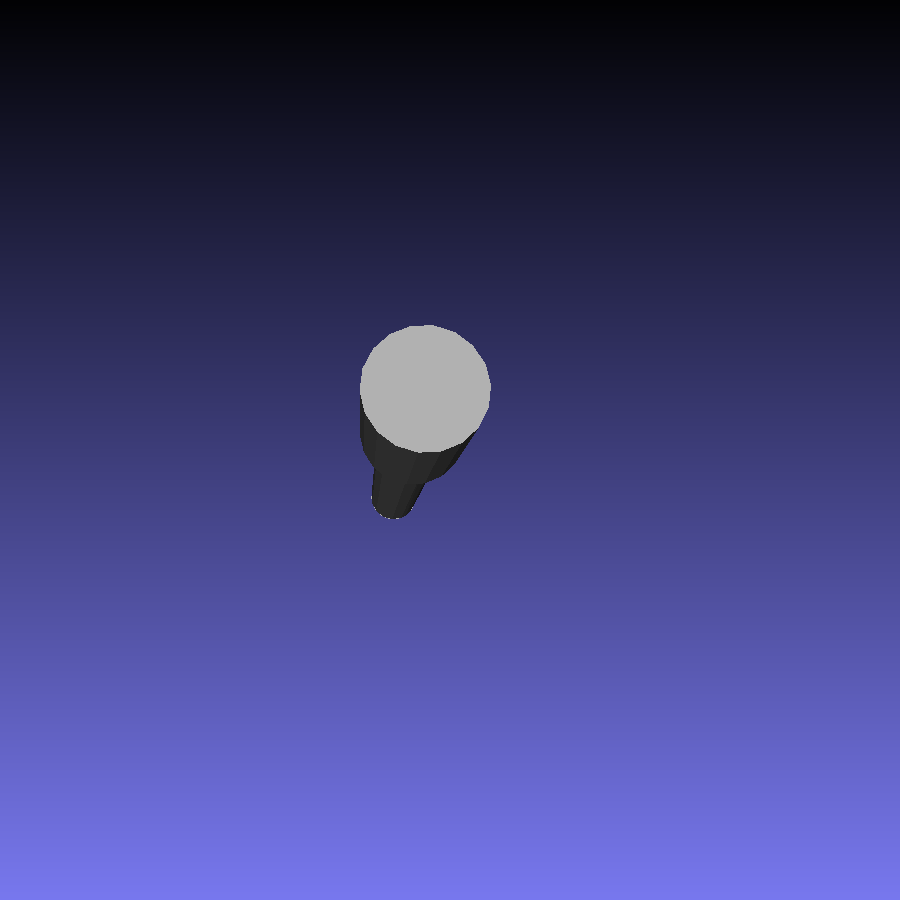cargo_g: (357, 323, 492, 520)
